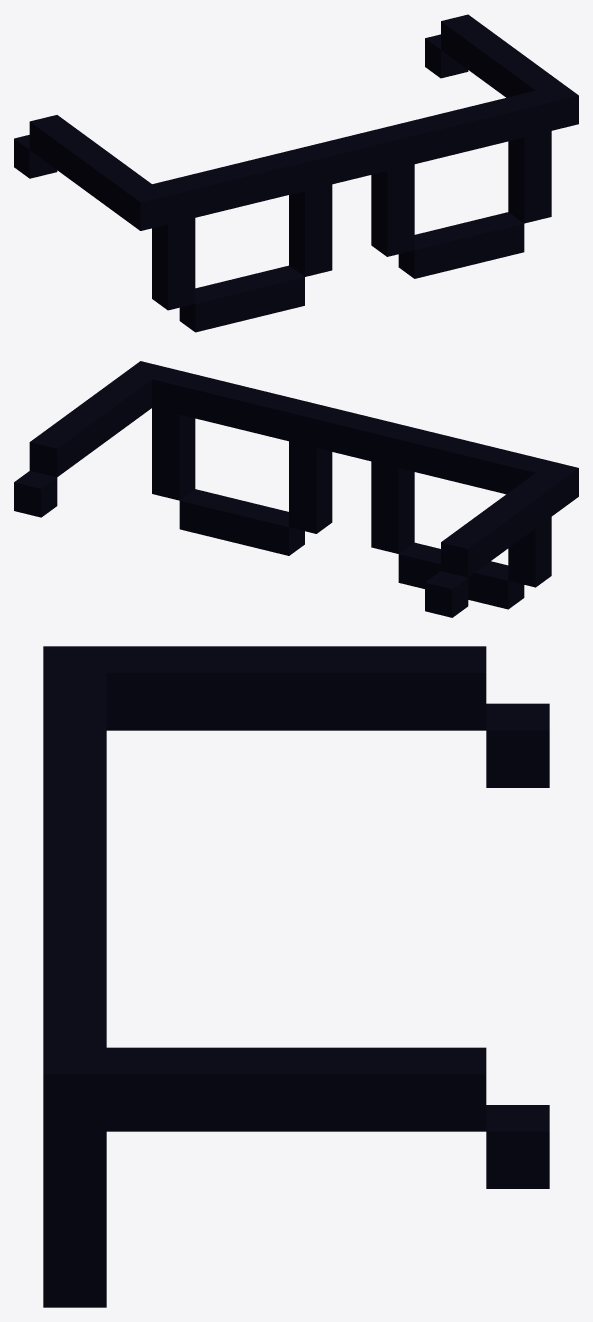
File: Voxel Universe Objects-61.obj
3 views of the same model, one above another, from view 1: azimuth 30°, elevation 25°; view 2: azimuth 150°, elevation 25°; view 3: azimuth 270°, elevation 25° (orthographic). The views are drawn at different scales.
Size of the model in its own units: 1.6 by 0.5 by 0.8.
1 material, 1 textured.
